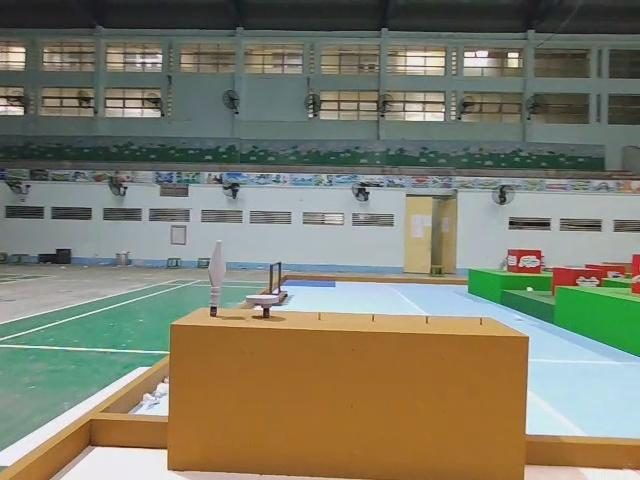Hand: (245, 293, 279, 321)
Sph: (207, 241, 227, 319)
